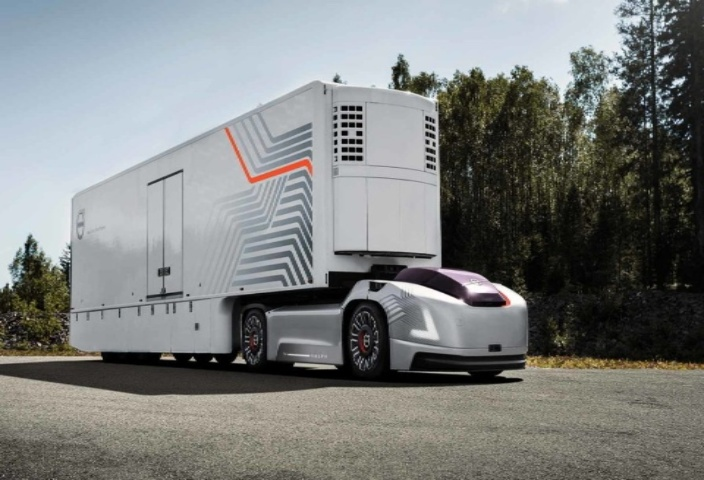truck: (31, 79, 540, 392)
